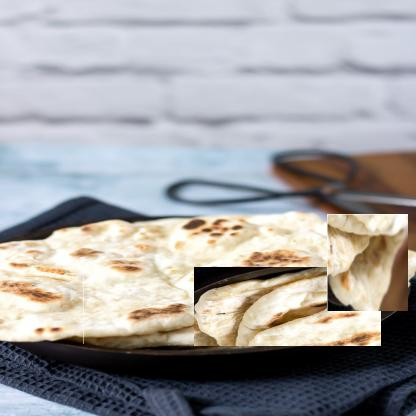naan: (0, 214, 338, 340), (83, 260, 338, 344), (193, 266, 381, 346), (323, 218, 412, 307)
